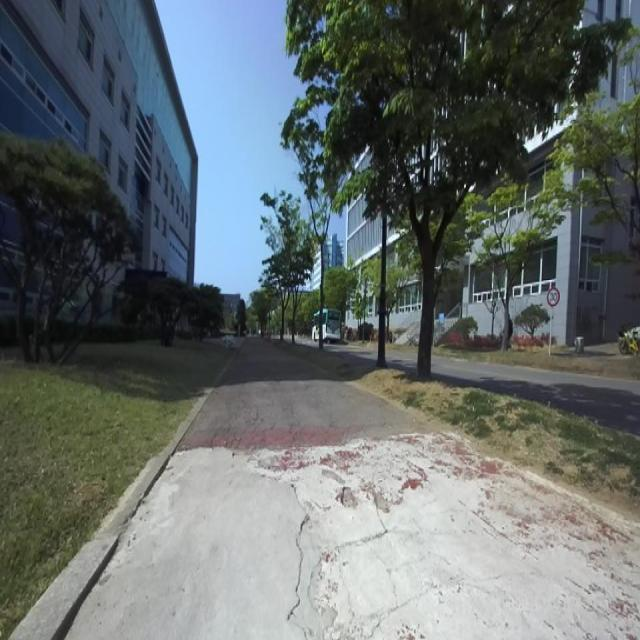sidewalk: (51, 339, 640, 640), (8, 384, 215, 640)
